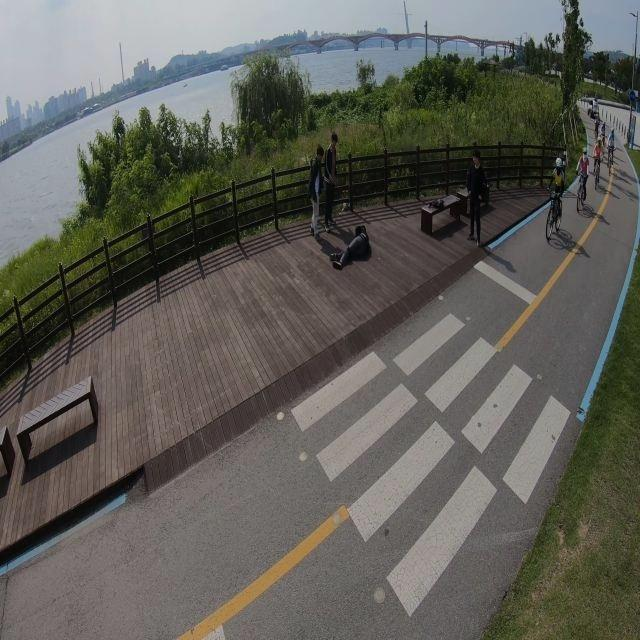fight: (308, 132, 370, 271)
non-fight: (464, 150, 488, 247)
